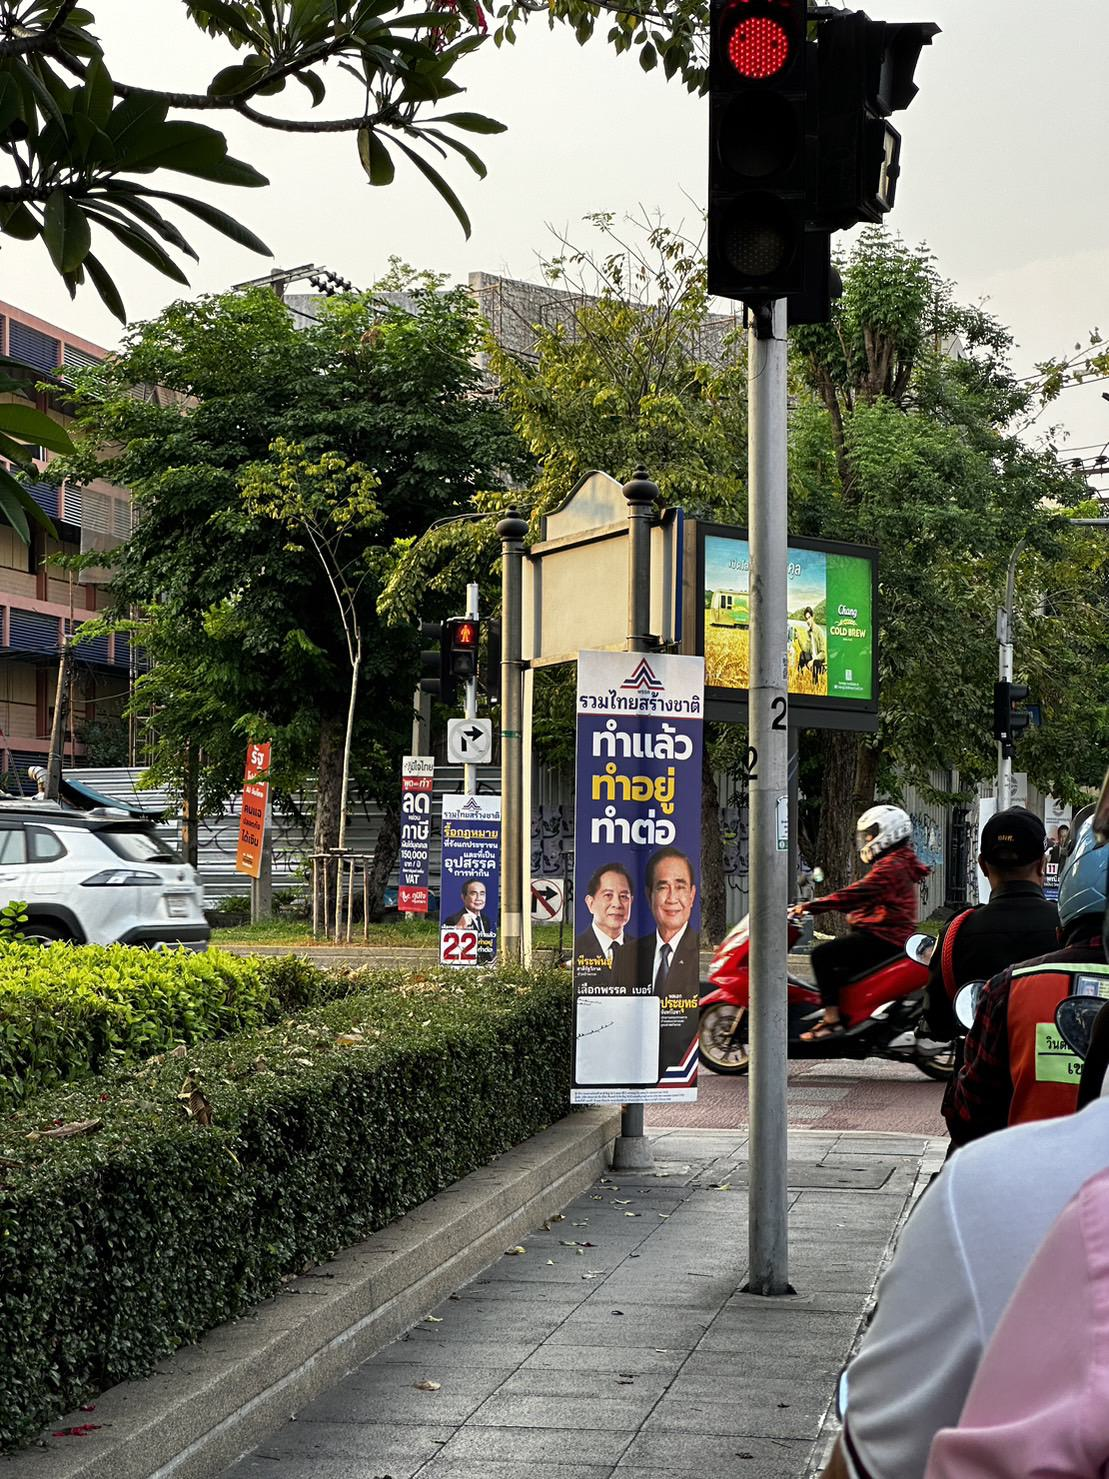Banner: (574, 652, 700, 1101), (444, 793, 499, 965), (402, 755, 435, 917), (236, 745, 274, 873)
